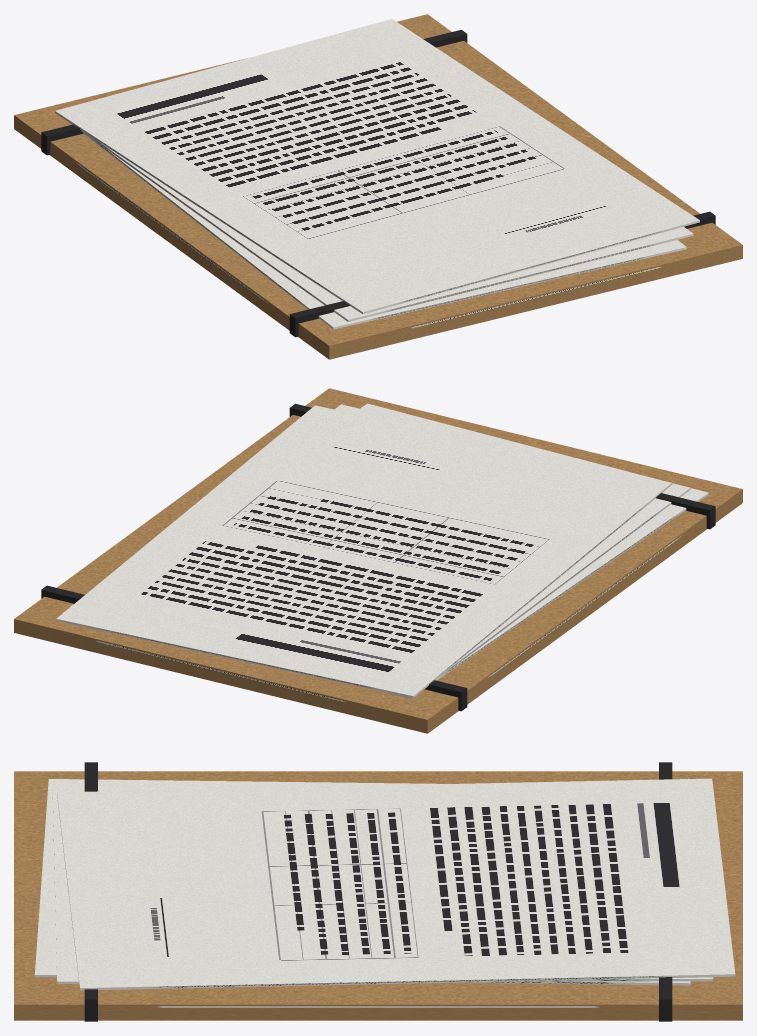
Rendered from documentos.glb.
3 renders of one model, top to bottom at view 1: azimuth 30°, elevation 25°; view 2: azimuth 150°, elevation 25°; view 3: azimuth 270°, elevation 25°, orthographic. The views are drawn at different scales.
Parts seen in each view (by area): view 1: Folha_2, Pasta, Folha_1, Folha_0, Elastico.001, Elastico; view 2: Folha_2, Pasta, Folha_1, Folha_0, Elastico.001, Elastico; view 3: Folha_2, Pasta, Folha_0, Folha_1, Elastico, Elastico.001.
Part boxes in pixels (left/top/right/bottom): Folha_2: left=55, top=19, right=699, bottom=314; Pasta: left=14, top=14, right=742, bottom=359; Folha_1: left=66, top=120, right=693, bottom=321; Folha_0: left=83, top=133, right=686, bottom=329; Elastico.001: left=41, top=29, right=467, bottom=155; Elastico: left=289, top=211, right=715, bottom=337; Folha_2: left=56, top=405, right=672, bottom=697; Pasta: left=14, top=388, right=742, bottom=733; Folha_1: left=62, top=404, right=690, bottom=698; Folha_0: left=69, top=403, right=708, bottom=698; Elastico.001: left=41, top=585, right=467, bottom=711; Elastico: left=289, top=403, right=715, bottom=529; Folha_2: left=57, top=778, right=735, bottom=990; Pasta: left=14, top=771, right=742, bottom=1020; Folha_0: left=34, top=779, right=690, bottom=985; Folha_1: left=52, top=784, right=713, bottom=983; Elastico: left=84, top=762, right=97, bottom=1021; Elastico.001: left=659, top=762, right=672, bottom=1021.
Bounding box in the file's own units: 0.254 × 0.0122 × 0.33.
Materials: 6 (4 with a texture image).
